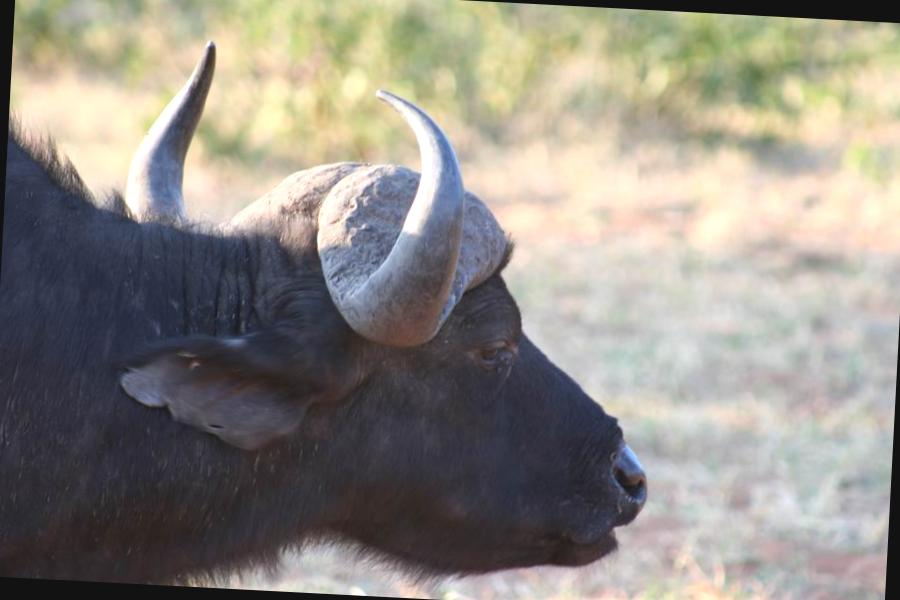Buffalo: (0, 14, 692, 600)
